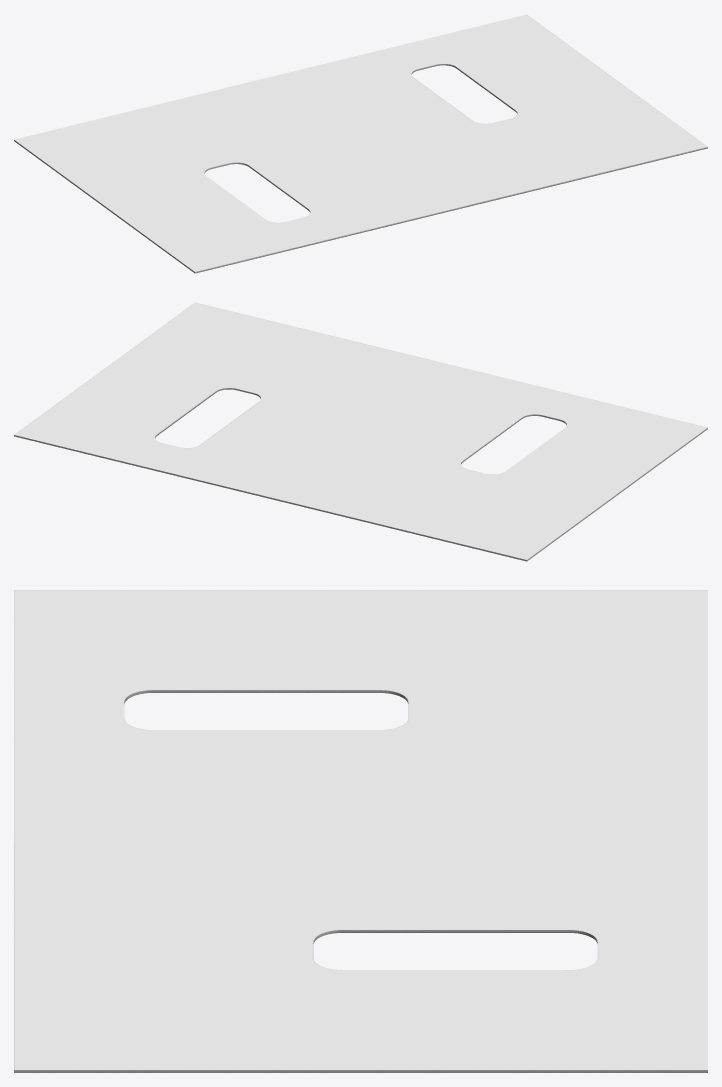
The picture shows the model from 3 angles, top to bottom: view 1: azimuth 30°, elevation 25°; view 2: azimuth 150°, elevation 25°; view 3: azimuth 270°, elevation 25°; orthographic projection. The views are drawn at different scales.
Parts seen in each view (by area): view 1: HORNEADO_suelo; view 2: HORNEADO_suelo; view 3: HORNEADO_suelo.
Part boxes in pixels (box(x1,y1,x2,y2)): HORNEADO_suelo: box(14, 14, 707, 273); HORNEADO_suelo: box(14, 302, 707, 561); HORNEADO_suelo: box(14, 590, 707, 1072).
Size of what is drawn, in the model's own units: 36 by 0.1 by 22.
Materials: 1 (1 with a texture image).
